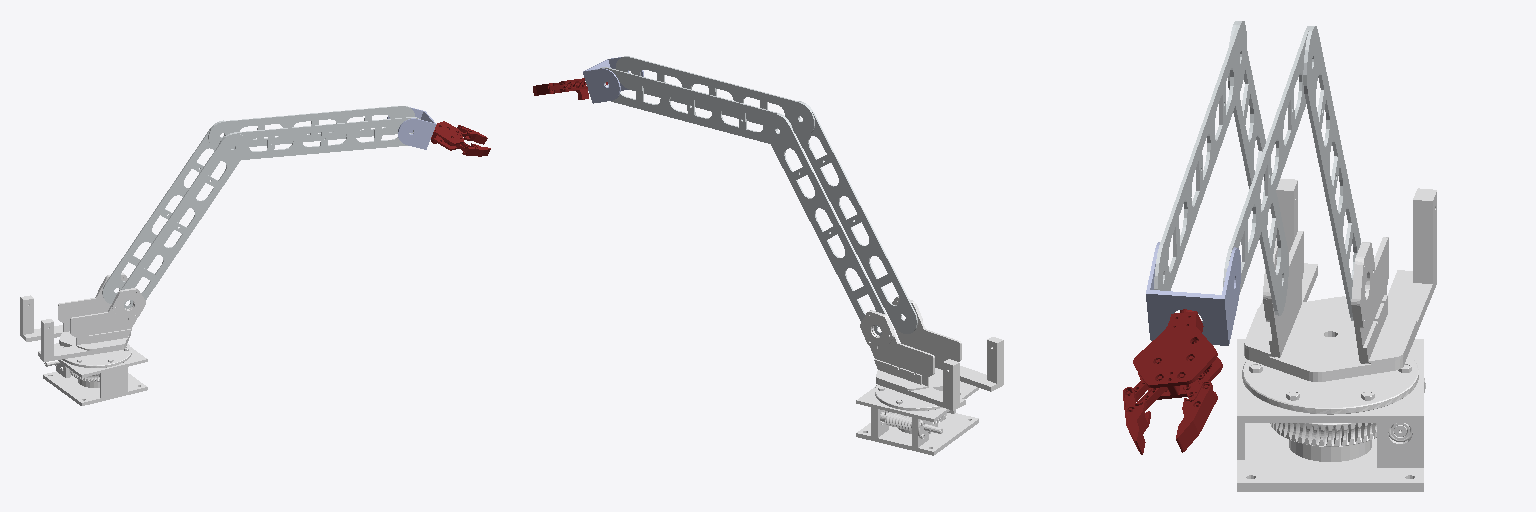
The robot description file, URDF, robot "u":
<?xml version="1.0" encoding="utf-8"?>
<!-- This URDF was automatically created by SolidWorks to URDF Exporter! Originally created by [author] ([email redacted]) 
     Commit Version: 1.6.0-4-g7f85cfe  Build Version: 1.6.7995.38578
     For more information, please see http://wiki.ros.org/sw_urdf_exporter -->
<robot
  name="u">
  <link
    name="BaseLink">
    <inertial>
      <origin
        xyz="-0.000576672752363672 0.00478492096976998 0.0544029801599403"
        rpy="0 0 0" />
      <mass
        value="1.73988992647191" />
      <inertia
        ixx="0.00546102114316155"
        ixy="-3.67413636754669E-05"
        ixz="-6.67364191607423E-06"
        iyy="0.00476020655786922"
        iyz="-9.31434453473891E-06"
        izz="0.00806261540001816" />
    </inertial>
    <visual>
      <origin
        xyz="0 0 0"
        rpy="0 0 0" />
      <geometry>
        <mesh
          filename="package://u/meshes/BaseLink.STL" />
      </geometry>
      <material
        name="">
        <color
          rgba="0.96078431372549 0.96078431372549 0.964705882352941 1" />
      </material>
    </visual>
    <collision>
      <origin
        xyz="0 0 0"
        rpy="0 0 0" />
      <geometry>
        <mesh
          filename="package://u/meshes/BaseLink.STL" />
      </geometry>
    </collision>
  </link>
  <link
    name="1">
    <inertial>
      <origin
        xyz="-0.0305112504614763 0.00527810896725928 0.0355535365457724"
        rpy="0 0 0" />
      <mass
        value="0.887320906853074" />
      <inertia
        ixx="0.0028241951756743"
        ixy="0.000408242889875551"
        ixz="0.000534529465246924"
        iyy="0.00514472999665455"
        iyz="-9.13606221333146E-05"
        izz="0.00653569254499971" />
    </inertial>
    <visual>
      <origin
        xyz="0 0 0"
        rpy="0 0 0" />
      <geometry>
        <mesh
          filename="package://u/meshes/1.STL" />
      </geometry>
      <material
        name="">
        <color
          rgba="0.96078431372549 0.96078431372549 0.964705882352941 1" />
      </material>
    </visual>
    <collision>
      <origin
        xyz="0 0 0"
        rpy="0 0 0" />
      <geometry>
        <mesh
          filename="package://u/meshes/1.STL" />
      </geometry>
    </collision>
  </link>
  <joint
    name="BasePlate"
    type="continuous">
    <origin
      xyz="0 0 0.130586759849396"
      rpy="0 0 0" />
    <parent
      link="BaseLink" />
    <child
      link="1" />
    <axis
      xyz="0 0 1" />
  </joint>
  <link
    name="2">
    <inertial>
      <origin
        xyz="0.1469116576661 -0.025128335017605 0.203930753058995"
        rpy="0 0 0" />
      <mass
        value="0.713576578661906" />
      <inertia
        ixx="0.0141599678952351"
        ixy="0.00127401697963179"
        ixz="-0.0097020494773174"
        iyy="0.0213905369436929"
        iyz="0.00165947586118381"
        izz="0.00766829744864748" />
    </inertial>
    <visual>
      <origin
        xyz="0 0 0"
        rpy="0 0 0" />
      <geometry>
        <mesh
          filename="package://u/meshes/2.STL" />
      </geometry>
      <material
        name="">
        <color
          rgba="0.898039215686275 0.917647058823529 0.929411764705882 1" />
      </material>
    </visual>
    <collision>
      <origin
        xyz="0 0 0"
        rpy="0 0 0" />
      <geometry>
        <mesh
          filename="package://u/meshes/2.STL" />
      </geometry>
    </collision>
  </link>
  <joint
    name="RoboticArm1"
    type="continuous">
    <origin
      xyz="0.0748270948489435 -0.0127987141226852 0.109758738973885"
      rpy="0 0 0" />
    <parent
      link="1" />
    <child
      link="2" />
    <axis
      xyz="0.168595411752396 0.985685338805463 0" />
  </joint>
  <link
    name="3">
    <inertial>
      <origin
        xyz="0.243248839773686 -0.0416062172027831 -0.0176105344940926"
        rpy="0 0 0" />
      <mass
        value="0.713576578661908" />
      <inertia
        ixx="0.00117689139509625"
        ixy="0.0034946923231511"
        ixz="0.00144594799297459"
        iyy="0.0210107040911898"
        iyz="-0.000247320506505186"
        izz="0.0210312068012895" />
    </inertial>
    <visual>
      <origin
        xyz="0 0 0"
        rpy="0 0 0" />
      <geometry>
        <mesh
          filename="package://u/meshes/3.STL" />
      </geometry>
      <material
        name="">
        <color
          rgba="0.898039215686275 0.917647058823529 0.929411764705882 1" />
      </material>
    </visual>
    <collision>
      <origin
        xyz="0 0 0"
        rpy="0 0 0" />
      <geometry>
        <mesh
          filename="package://u/meshes/3.STL" />
      </geometry>
    </collision>
  </link>
  <joint
    name="RoboticArm2"
    type="continuous">
    <origin
      xyz="0.290809350777419 -0.0497411499446505 0.403677766916386"
      rpy="0 0 0" />
    <parent
      link="2" />
    <child
      link="3" />
    <axis
      xyz="0.168595411752396 0.985685338805463 0" />
  </joint>
  <link
    name="4">
    <inertial>
      <origin
        xyz="0.0275429073684859 -0.00510163599952318 -0.0118250927213673"
        rpy="0 0 0" />
      <mass
        value="0.0838934808116947" />
      <inertia
        ixx="0.000155353617258918"
        ixy="-7.13757253981151E-06"
        ixz="1.11085078789929E-05"
        iyy="0.000114844964774239"
        iyz="-1.90004191609782E-06"
        izz="0.000178509982441729" />
    </inertial>
    <visual>
      <origin
        xyz="0 0 0"
        rpy="0 0 0" />
      <geometry>
        <mesh
          filename="package://u/meshes/4.STL" />
      </geometry>
      <material
        name="">
        <color
          rgba="0.792156862745098 0.819607843137255 0.933333333333333 1" />
      </material>
    </visual>
    <collision>
      <origin
        xyz="0 0 0"
        rpy="0 0 0" />
      <geometry>
        <mesh
          filename="package://u/meshes/4.STL" />
      </geometry>
    </collision>
  </link>
  <joint
    name="Holder"
    type="continuous">
    <origin
      xyz="0.491592572767814 -0.0840838845393098 -0.0355899249830786"
      rpy="0 0 0" />
    <parent
      link="3" />
    <child
      link="4" />
    <axis
      xyz="-0.168595411752394 -0.985685338805463 0" />
  </joint>
  <link
    name="5">
    <inertial>
      <origin
        xyz="0.117615605082876 -0.0207245206794495 -0.0512554828008718"
        rpy="0 0 0" />
      <mass
        value="0.42276928387442" />
      <inertia
        ixx="8.81044654600068E-05"
        ixy="1.13183915059975E-05"
        ixz="4.76090199218948E-05"
        iyy="0.000171066499897428"
        iyz="-1.61870965232161E-05"
        izz="0.00018322377314253" />
    </inertial>
    <visual>
      <origin
        xyz="0 0 0"
        rpy="0 0 0" />
      <geometry>
        <mesh
          filename="package://u/meshes/5.STL" />
      </geometry>
      <material
        name="">
        <color
          rgba="0.549019607843137 0.180392156862745 0.180392156862745 1" />
      </material>
    </visual>
    <collision>
      <origin
        xyz="0 0 0"
        rpy="0 0 0" />
      <geometry>
        <mesh
          filename="package://u/meshes/5.STL" />
      </geometry>
    </collision>
  </link>
  <joint
    name="Gripper"
    type="continuous">
    <origin
      xyz="0.0453386792644909 -0.0081454932754107 -0.0194474503946368"
      rpy="0 0 0" />
    <parent
      link="4" />
    <child
      link="5" />
    <axis
      xyz="0.908071769960326 -0.155320088399329 -0.388949007892737" />
  </joint>
</robot>

--- What the picture shows (computed from the rendered views, not written in the file) ---
Views: 3 orthographic renders of the robot side by side, from view 1: azimuth 30°, elevation 25°; view 2: azimuth 150°, elevation 25°; view 3: azimuth 270°, elevation 25°.
Robot: u — 6 links, 5 joints (5 continuous); root link BaseLink; default pose: all joints at 0.
Links seen in each view (by area): view 1: 2, 3, 1, BaseLink, 5, 4; view 2: 2, 1, 3, BaseLink, 4, 5; view 3: BaseLink, 1, 3, 2, 5, 4.
Link boxes in pixels (bbox=[...]): 2: bbox=[102, 120, 247, 308]; 3: bbox=[208, 106, 420, 159]; 1: bbox=[20, 273, 145, 361]; BaseLink: bbox=[43, 343, 147, 405]; 5: bbox=[431, 121, 490, 156]; 4: bbox=[387, 107, 436, 149]; 2: bbox=[764, 101, 917, 335]; 1: bbox=[860, 296, 1003, 410]; 3: bbox=[600, 56, 814, 143]; BaseLink: bbox=[856, 381, 978, 455]; 4: bbox=[583, 57, 643, 103]; 5: bbox=[533, 78, 607, 99]; BaseLink: bbox=[1237, 339, 1425, 491]; 1: bbox=[1244, 178, 1436, 381]; 3: bbox=[1154, 21, 1310, 294]; 2: bbox=[1228, 21, 1360, 320]; 5: bbox=[1123, 309, 1222, 454]; 4: bbox=[1146, 242, 1240, 345].
Size in the robot's own frame: 1.28 by 0.3436 by 0.6849 metres.
6 mesh visuals loaded from 6 distinct referenced files (6 binary STL).